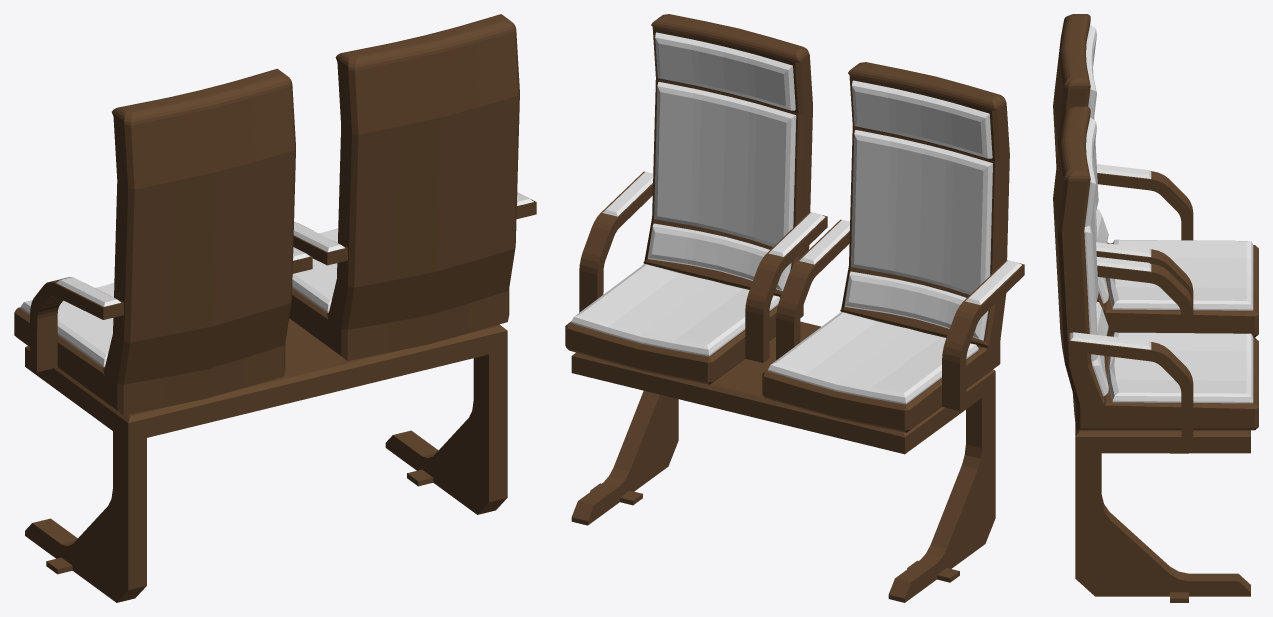
The model's file is Chair 1.fbx.
3 renders of one model, left to right at view 1: azimuth 30°, elevation 25°; view 2: azimuth 150°, elevation 25°; view 3: azimuth 270°, elevation 25°, orthographic. The views are drawn at different scales.
Visible parts, largest first — view 1: Seat 1; view 2: Seat 1; view 3: Seat 1.
Part boxes in pixels (bbox=[...]): Seat 1: bbox=[14, 14, 536, 602]; Seat 1: bbox=[565, 14, 1024, 602]; Seat 1: bbox=[1053, 14, 1258, 602].
Size of the model in its own units: 116 by 128 by 56.35.
